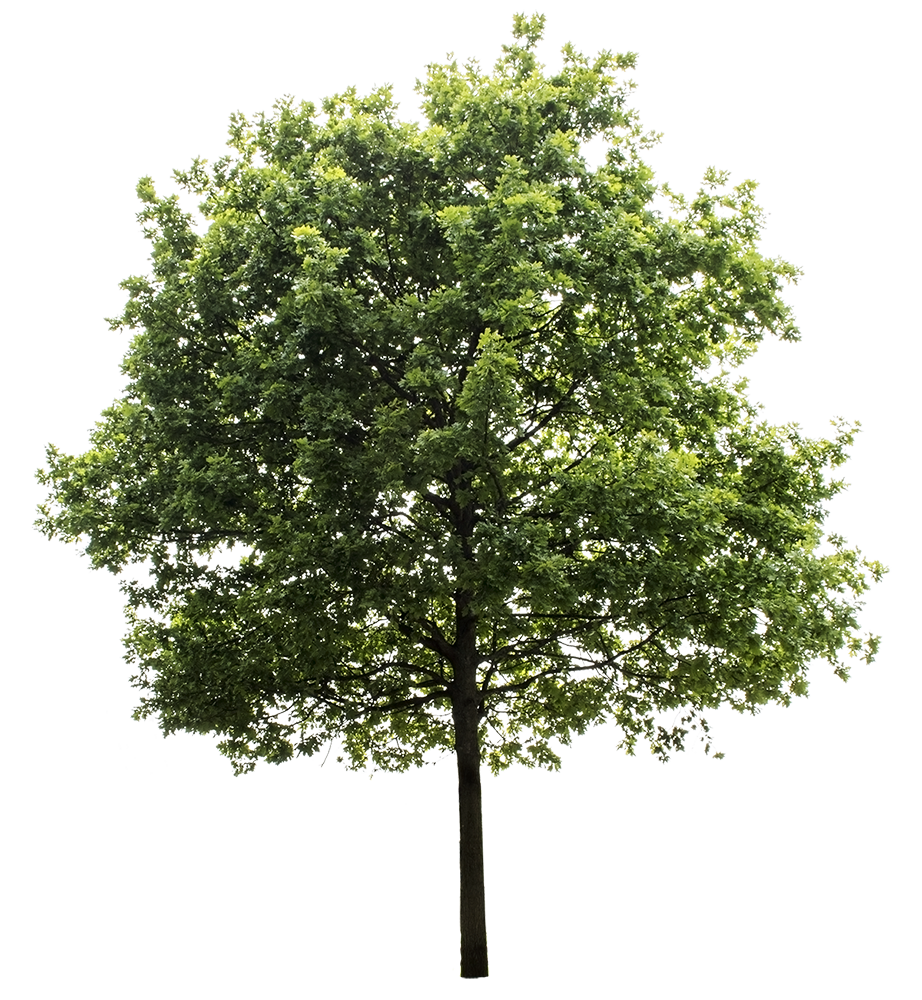tree: (32, 9, 892, 982)
